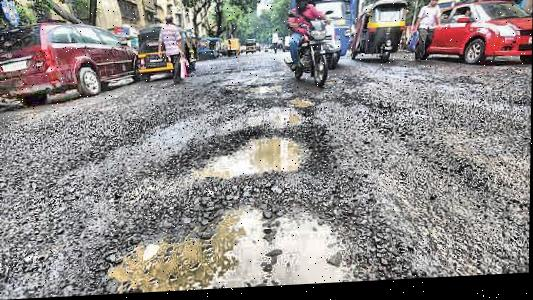pothole: (85, 183, 404, 293), (180, 127, 330, 181), (268, 108, 307, 129), (243, 83, 285, 99), (286, 94, 319, 113)
